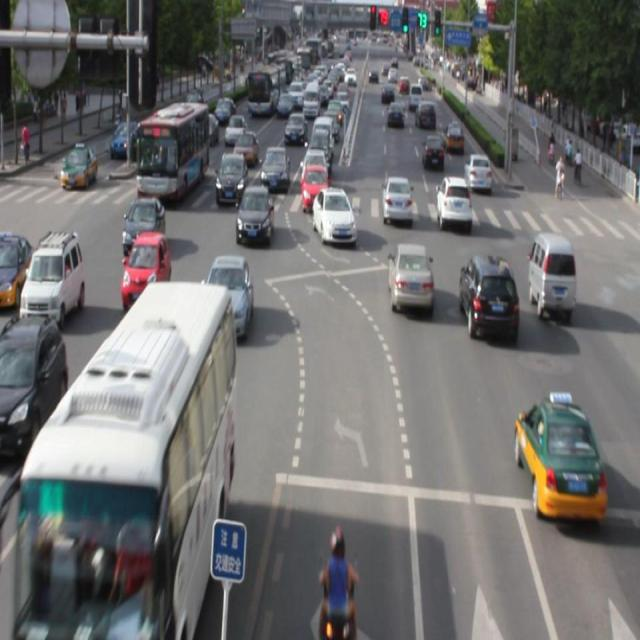car: (514, 400, 604, 521), (1, 314, 68, 456), (459, 253, 516, 340), (121, 231, 170, 311), (204, 256, 252, 335), (388, 241, 431, 312), (122, 197, 166, 259), (310, 188, 357, 246), (238, 185, 273, 245), (435, 175, 470, 228), (382, 176, 412, 223)
truck: (528, 230, 574, 314)
van: (18, 282, 234, 640)
